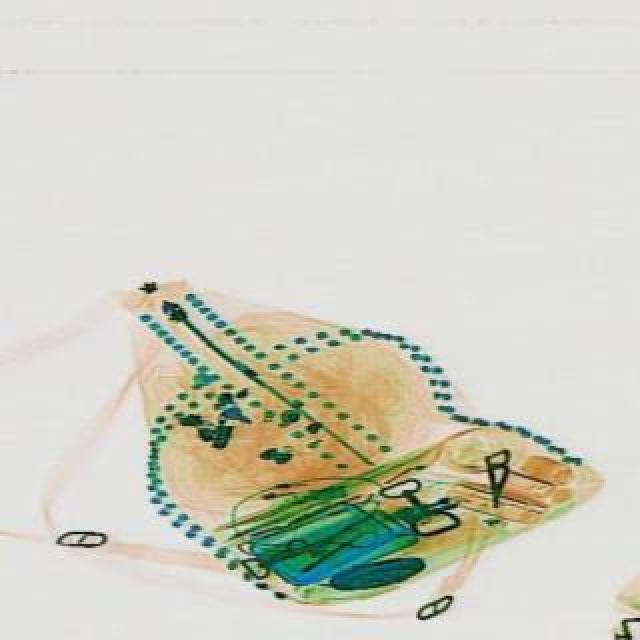pliers: (294, 514, 380, 582)
